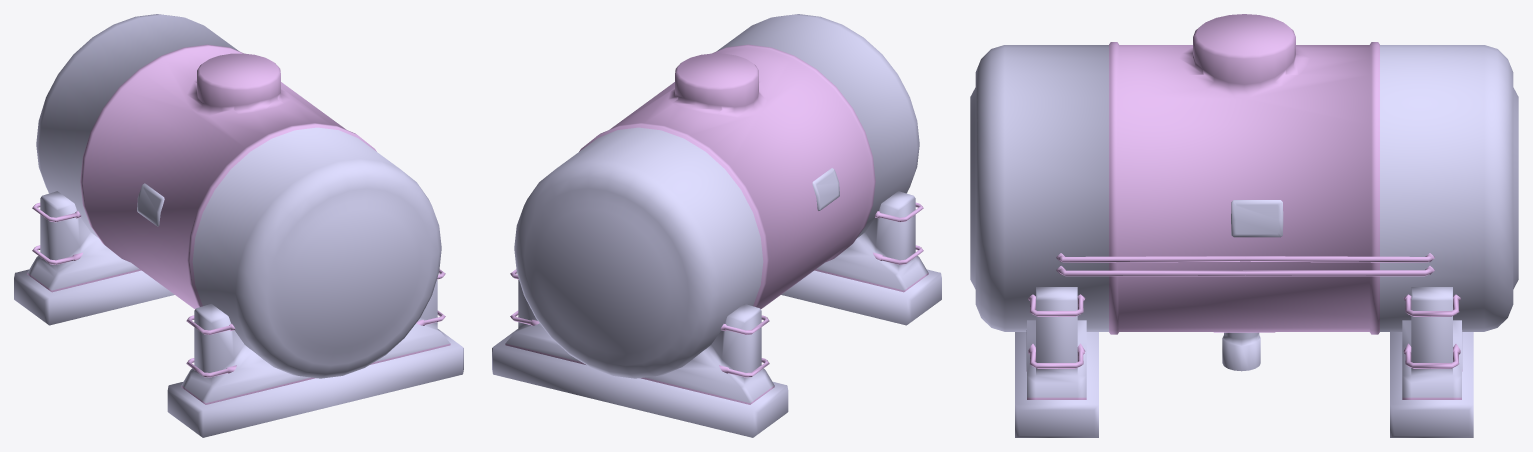
The model's file is tankcapacity3.fbx.
The picture shows the model from 3 angles, left to right: view 1: azimuth 30°, elevation 25°; view 2: azimuth 150°, elevation 25°; view 3: azimuth 270°, elevation 25°; orthographic projection. The views are drawn at different scales.
Parts seen in each view (by area): view 1: gastank; view 2: gastank; view 3: gastank.
Part boxes in pixels (<box>): gastank: <box>14,14,463,437</box>; gastank: <box>492,14,941,437</box>; gastank: <box>970,14,1518,437</box>.
Bounding box in the file's own units: 225 × 218 × 329.
